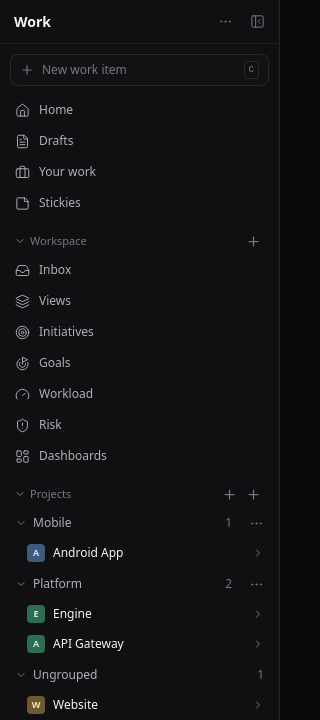
teamspace grouping › group collapse persists per teamspace id and re-expands
Click the button "Platform 2" at coordinates (124, 584), box top-left (7, 575), bottom-right (240, 593)
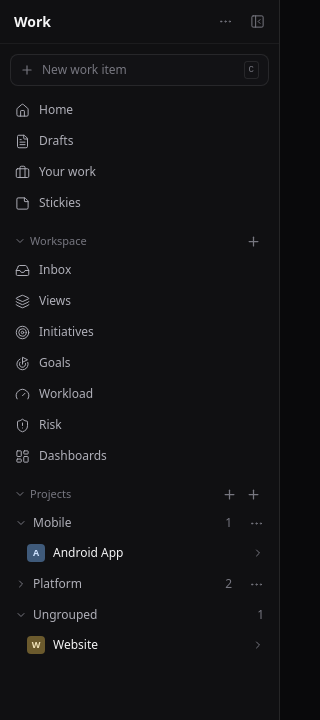
Expected: the button "Engine" is gone
Click the button "Platform 2" at coordinates (124, 584), box top-left (7, 575), bottom-right (240, 593)
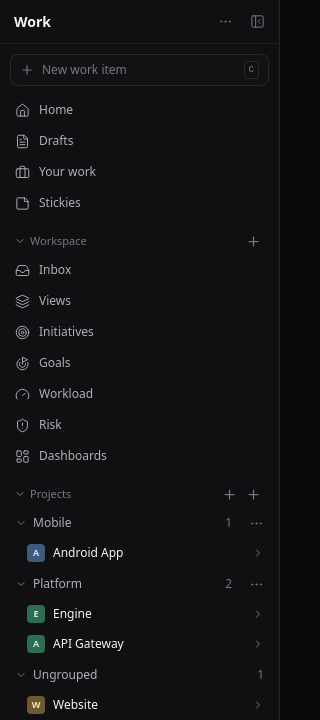
Expected: the text "Engine" is shown, top-left (53, 605), bottom-right (92, 623)
